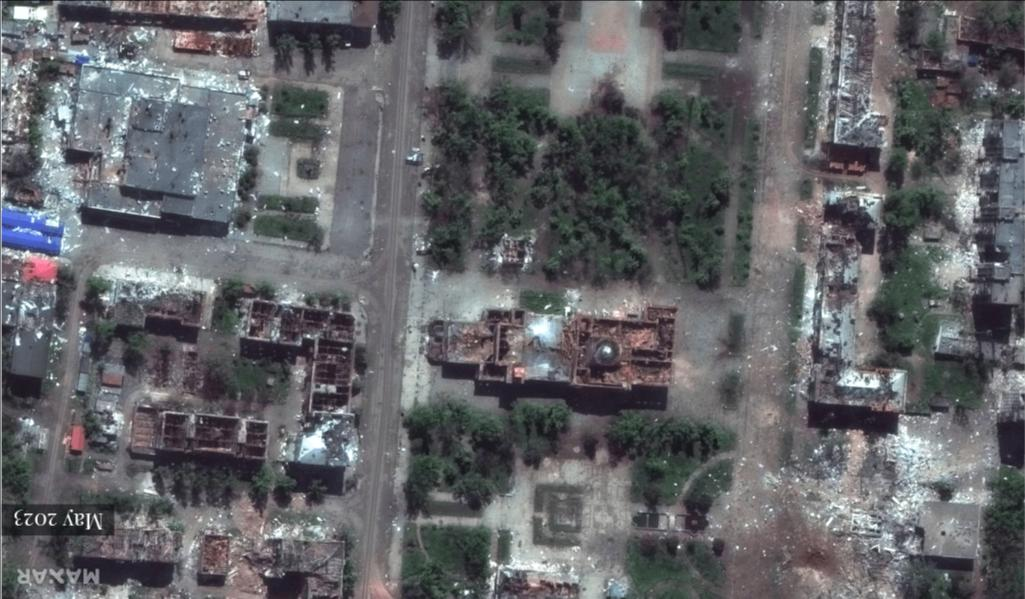demaged-building-high: (424, 310, 668, 396), (820, 441, 916, 598), (135, 404, 268, 460), (244, 302, 351, 337), (308, 344, 356, 410), (13, 260, 48, 332)
demaged-building-low: (80, 64, 239, 236)
demaged-building-medium: (65, 524, 344, 578), (813, 200, 873, 406), (817, 0, 891, 149), (83, 270, 204, 336), (296, 422, 357, 489), (494, 567, 578, 599)
